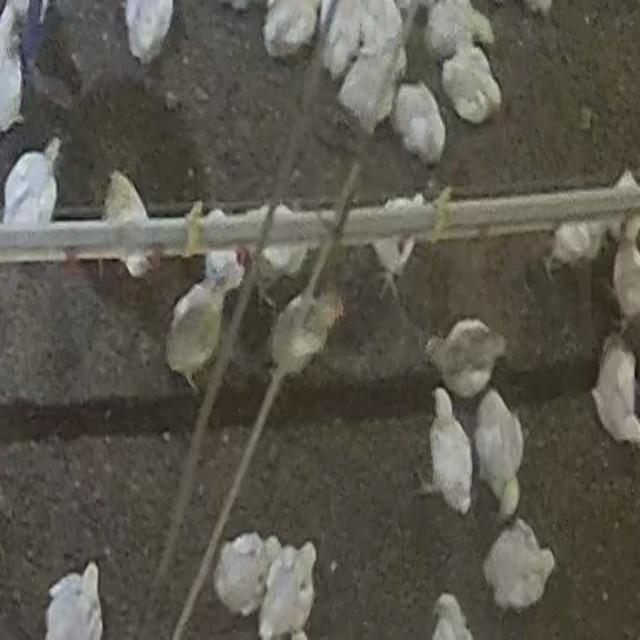chicken: (166, 274, 233, 396), (268, 285, 343, 382), (473, 386, 526, 520), (482, 518, 556, 613), (418, 388, 472, 518), (100, 167, 156, 281), (249, 208, 313, 304), (336, 48, 400, 141), (420, 324, 505, 394), (2, 137, 62, 236), (258, 540, 318, 638), (438, 42, 504, 126), (591, 334, 639, 447), (321, 1, 387, 82), (214, 531, 272, 620), (391, 81, 447, 168), (44, 562, 106, 640), (425, 0, 491, 61), (262, 0, 319, 59), (610, 218, 640, 330)
